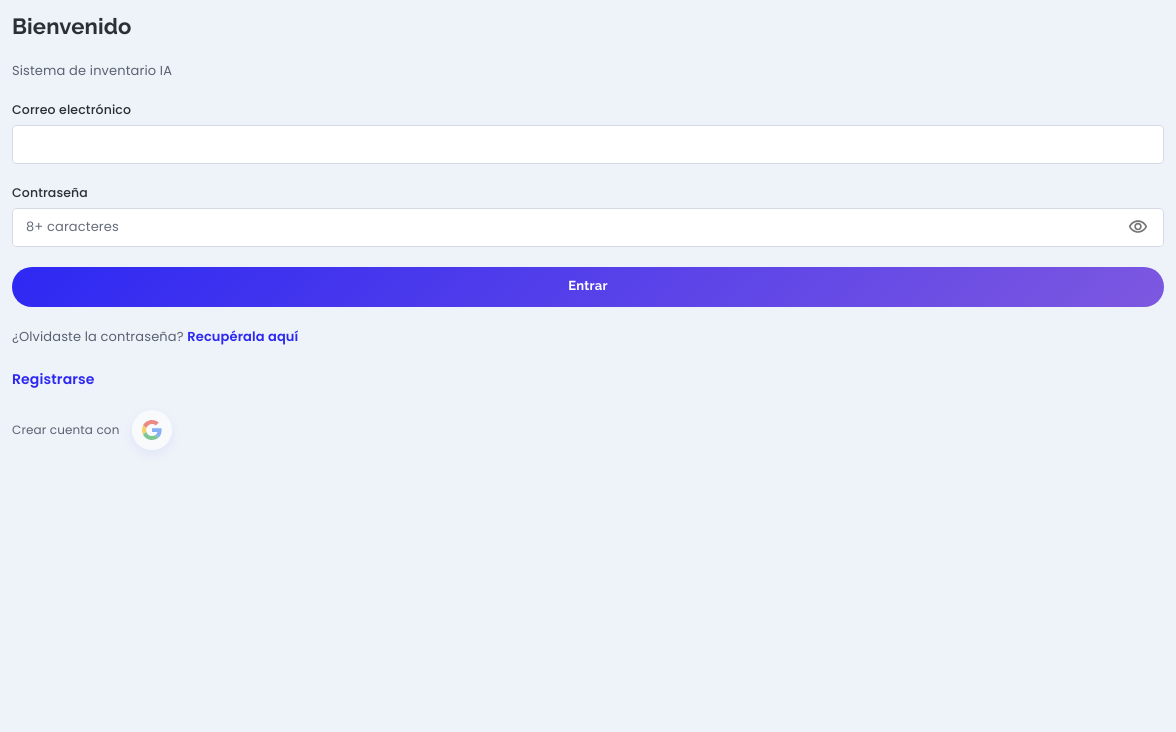
<LoginPage /> › muestra el error del backend en español
Type "ana@example.com" into the field labelled "Correo electrónico" at (588, 145), box left=12, top=125, right=1164, bottom=164
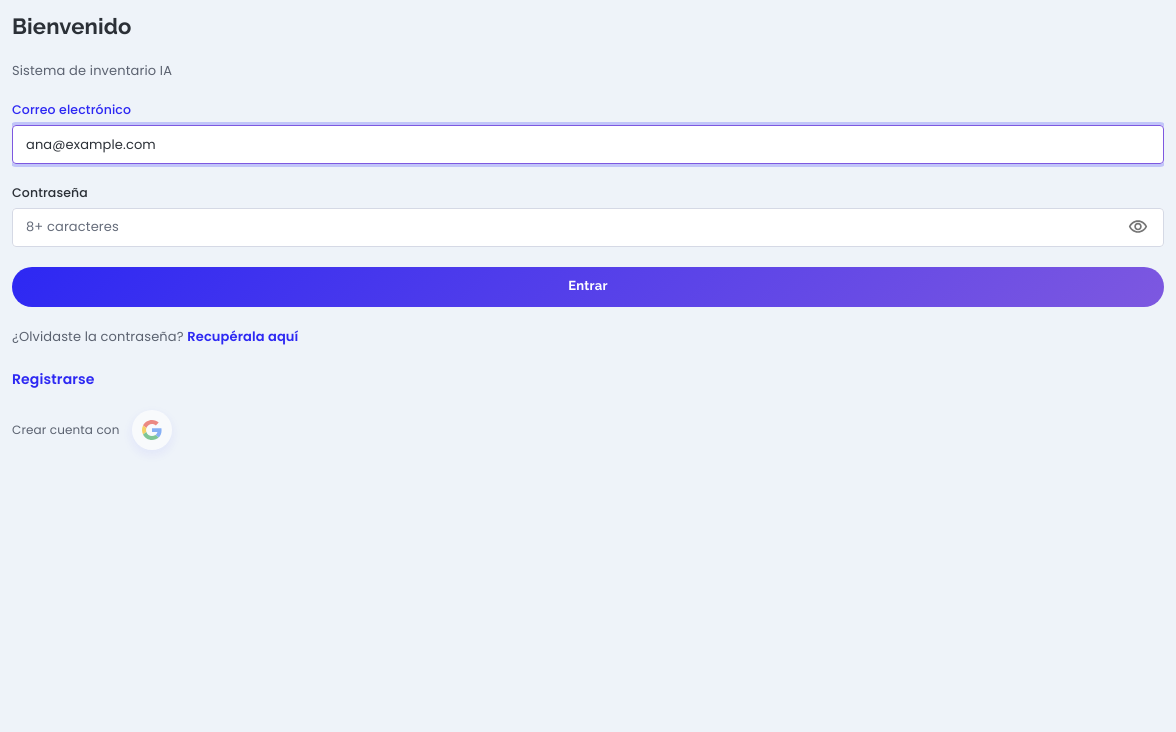
Type "mala" into the password field labelled "Contraseña" at (564, 227), box left=12, top=208, right=1115, bottom=247
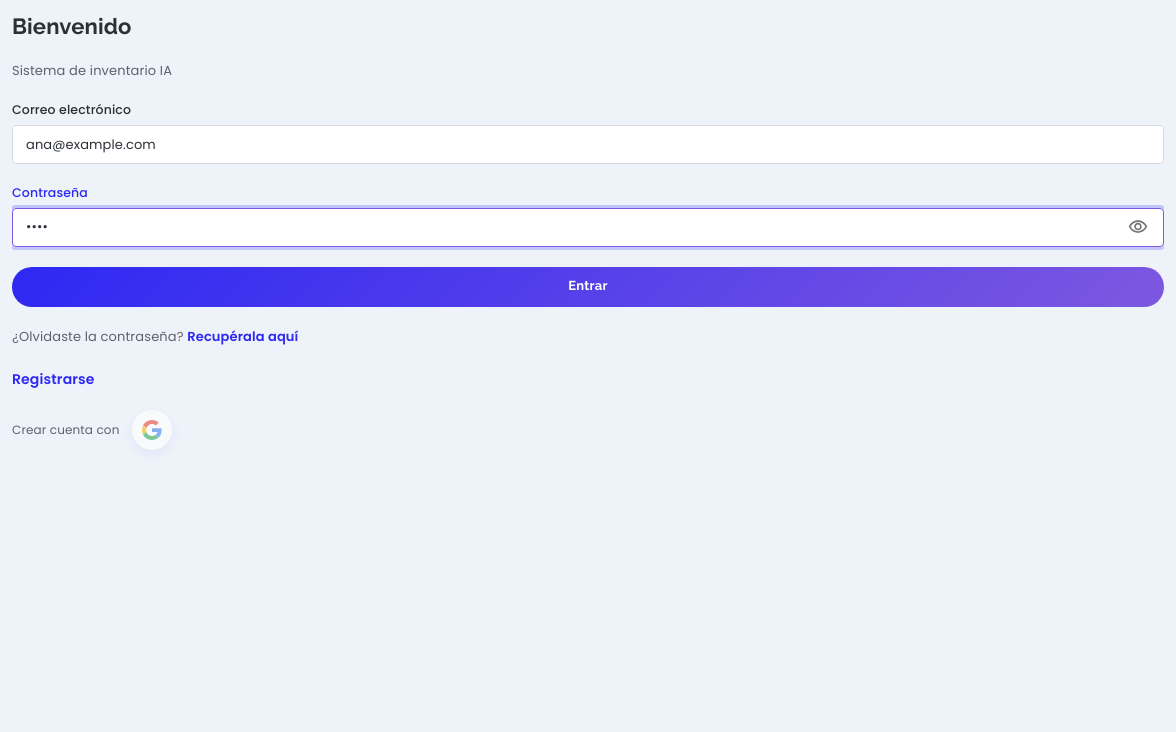
Click the button "Entrar" at (588, 287), box left=12, top=267, right=1164, bottom=307
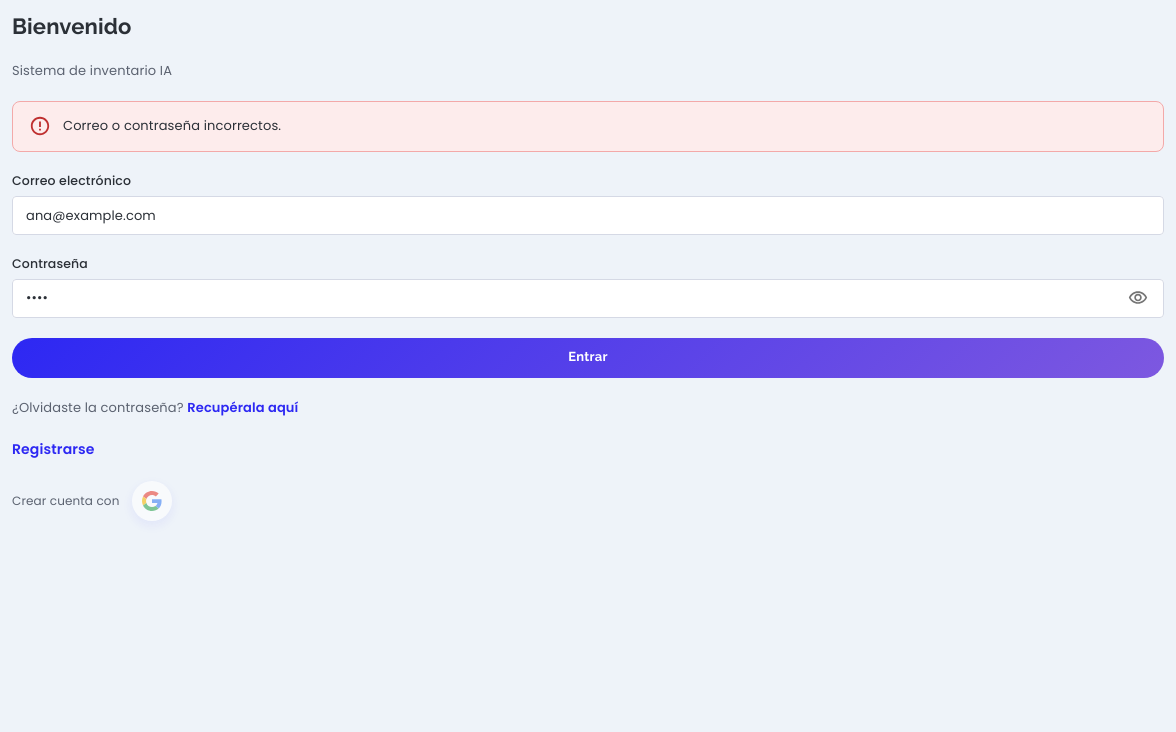
Result: the message reads "Correo o contraseña incorrectos." at left=63, top=116, right=281, bottom=135
